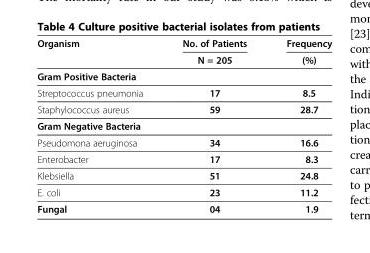table: (36, 37, 331, 214)
table column: (36, 37, 162, 214), (162, 37, 265, 214), (265, 37, 331, 214)
table column header: (36, 37, 331, 67)
table projected row header: (36, 67, 331, 84), (36, 117, 331, 133)
table row: (36, 67, 331, 84), (36, 100, 331, 117), (36, 133, 331, 150), (36, 150, 331, 167), (36, 183, 331, 200), (36, 51, 331, 67), (36, 84, 331, 100), (36, 117, 331, 133), (36, 167, 331, 183), (36, 37, 331, 51), (36, 200, 331, 214)
table spanning cell: (36, 37, 162, 67), (162, 37, 265, 67), (265, 37, 331, 67)
